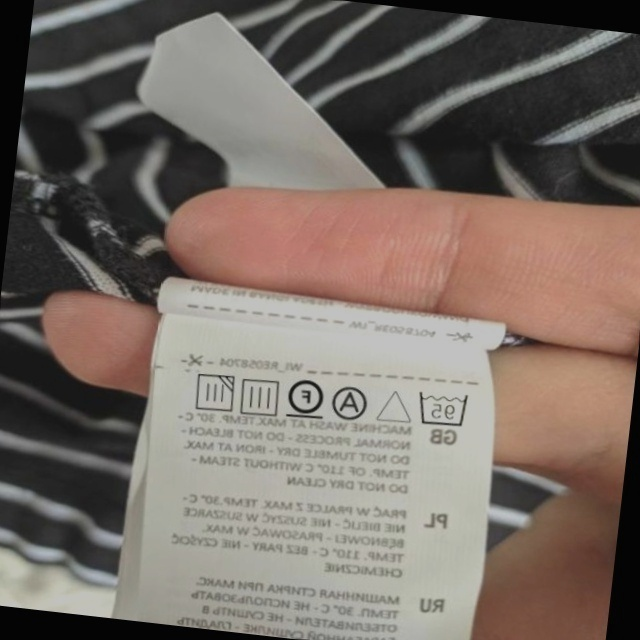95C: (412, 385, 472, 431)
bleach: (375, 383, 414, 428)
drip_dry: (236, 373, 284, 419)
drip_dry_in_shade: (188, 368, 237, 417)
dry_clean: (330, 382, 372, 423)
dry_clean_petrol_only: (283, 372, 327, 422)
